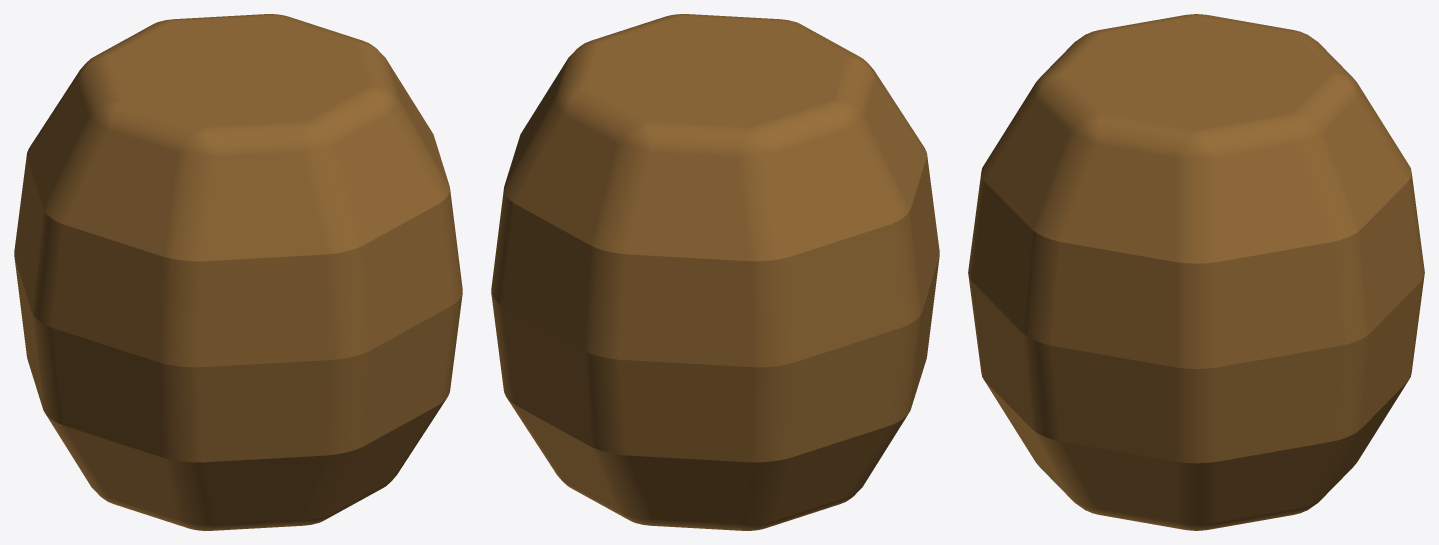
File: barrel.fbx
3 views of the same model, side by side, from view 1: azimuth 30°, elevation 25°; view 2: azimuth 150°, elevation 25°; view 3: azimuth 270°, elevation 25° (orthographic).
Visible parts, largest first — view 1: barrel; view 2: barrel; view 3: barrel.
Part boxes in pixels (bbox=[...]): barrel: bbox=[14, 14, 462, 530]; barrel: bbox=[491, 14, 939, 530]; barrel: bbox=[968, 14, 1424, 530].
Bounding box in the file's own units: 207 × 207 × 200.
